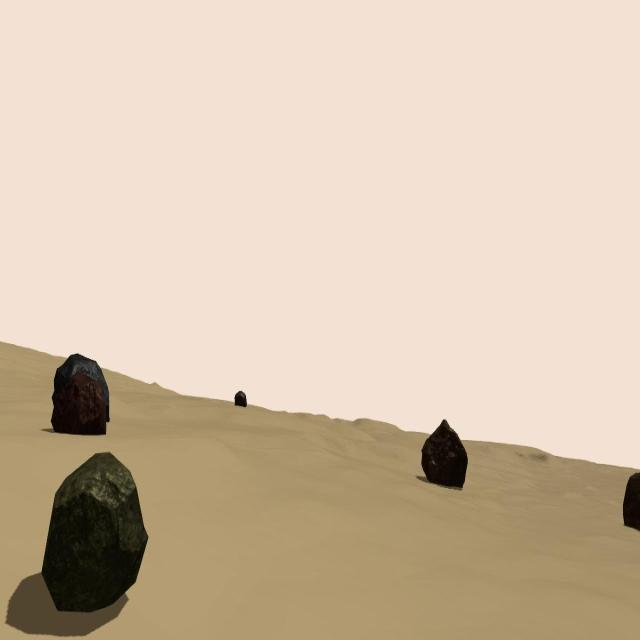rock: (42, 452, 148, 613), (52, 352, 109, 424), (51, 370, 106, 436), (421, 419, 468, 489), (623, 472, 640, 530), (235, 389, 246, 406)
